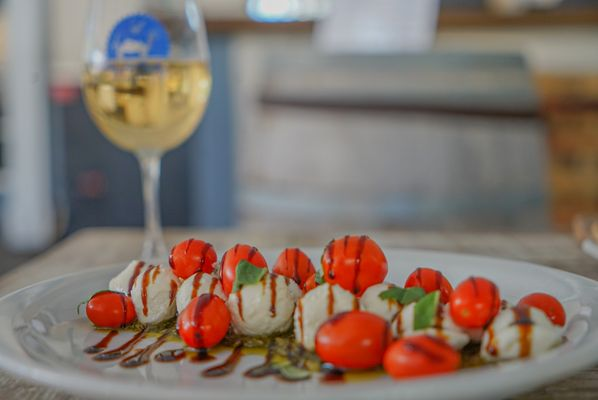sandwich: (78, 1, 214, 273)
